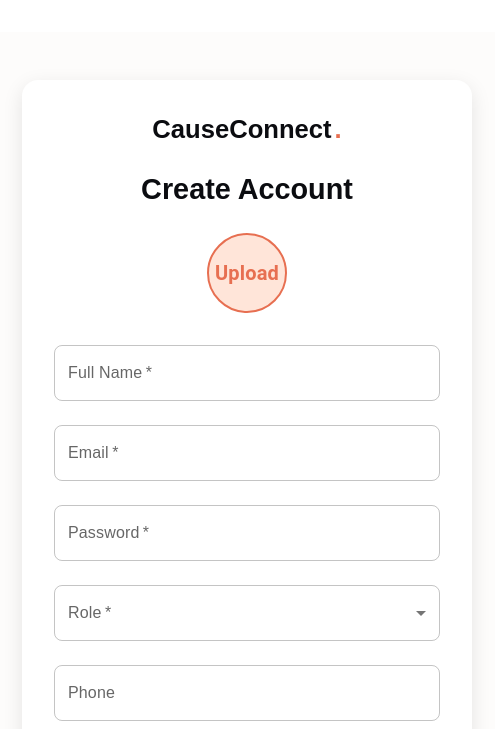
Test: Signup Page › shows error message when signup fails
The image size is (495, 729).
In the field labelled "Full Name *": (247, 372) [54,344,440,400], type "Jane Doe"
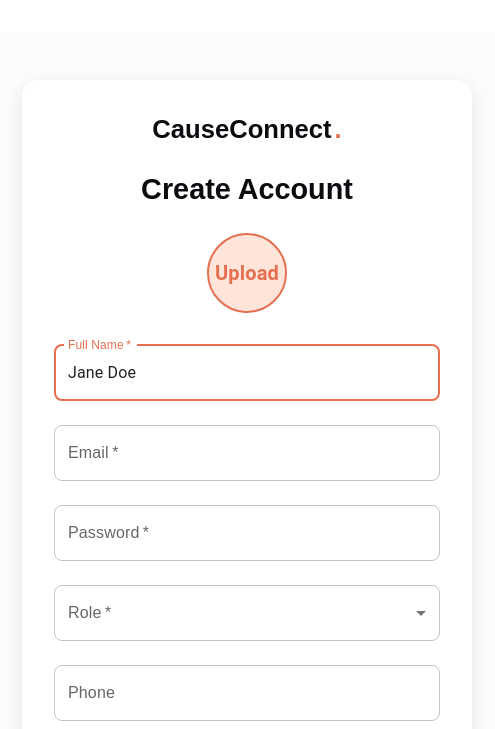
In the field labelled "Email *": (247, 452) [54,424,440,480], type "jane@example.com"
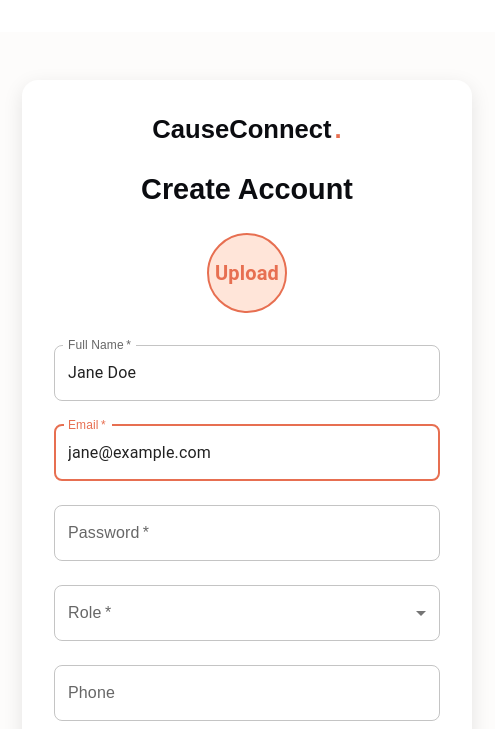
In the password field labelled "Password *": (247, 532) [54,504,440,560], type "password123"
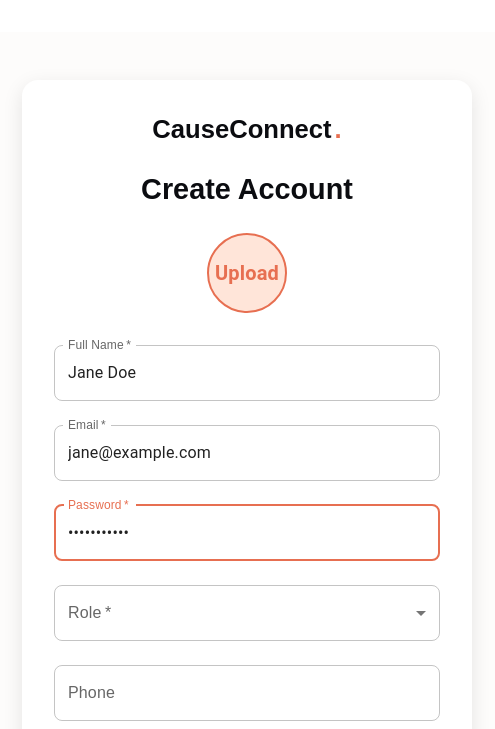
Click the dropdown named "role": (247, 612) [54,584,440,640]
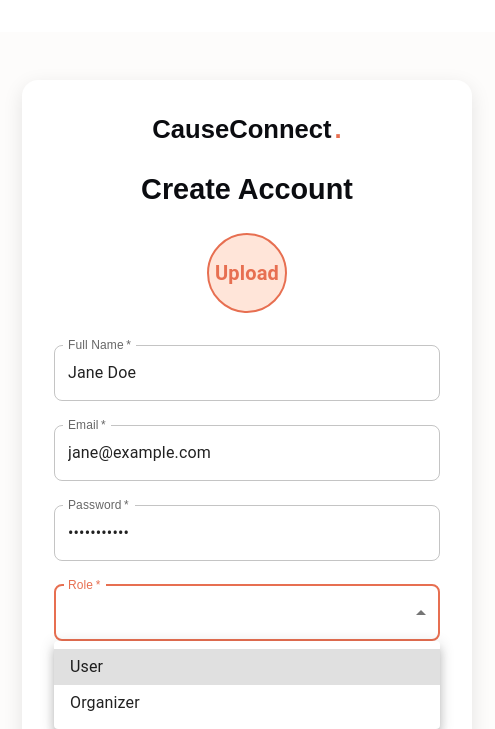
Click the option "Organizer": (105, 702) [70,693,140,712]
(page scrolled)
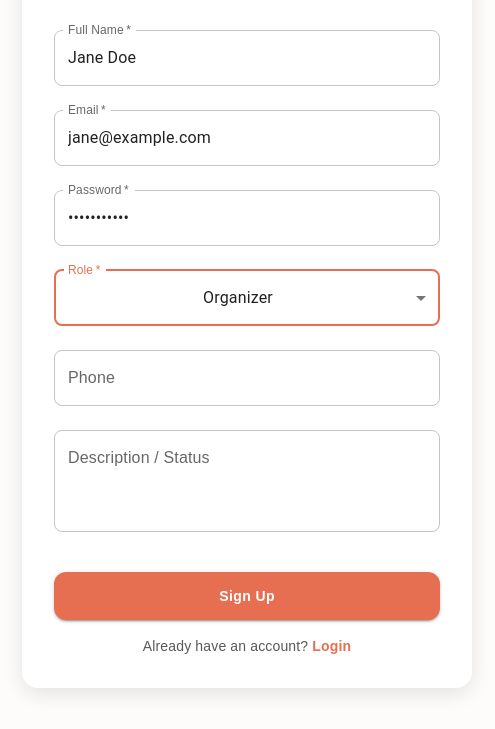
Click the button "Sign Up": (247, 596) [54,572,440,620]
(page scrolled)
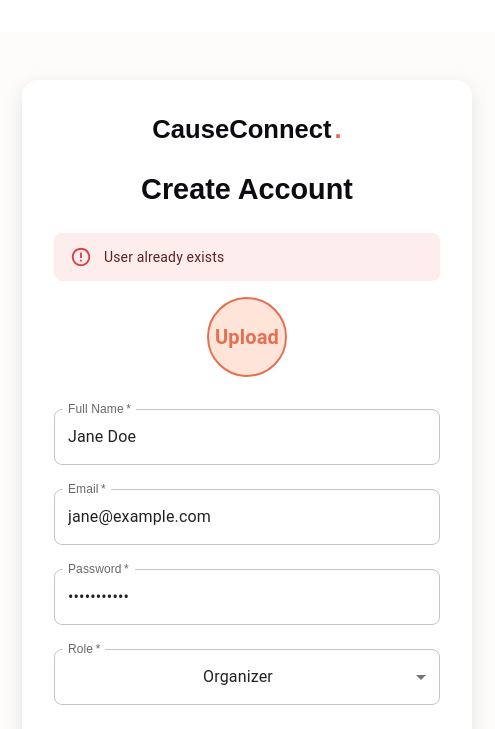
Expected: the text "User already exists" is shown, [104,248,224,264]
